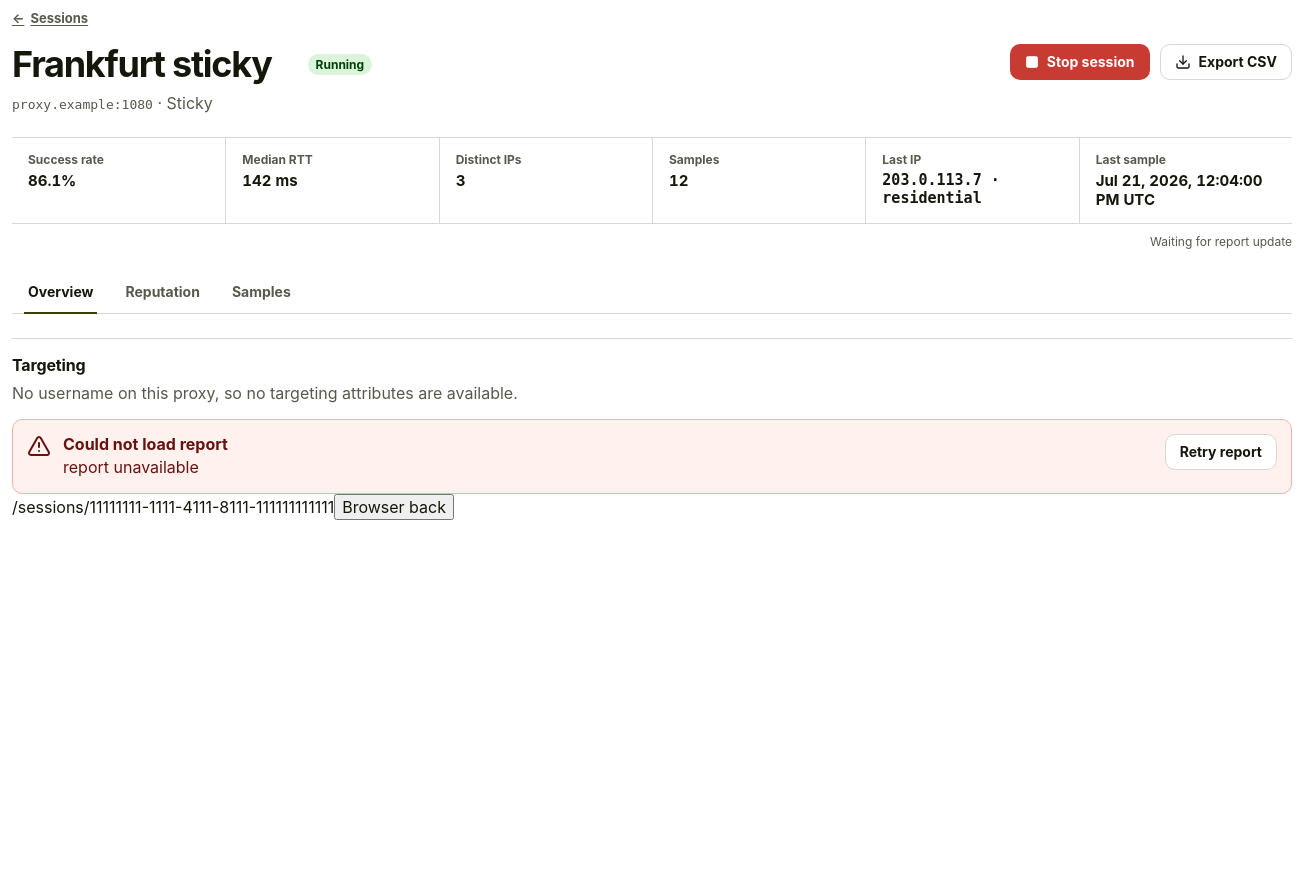
Test: SessionPage › shows a local report error and retries without hiding the session identity
This screenshot has width=1304, height=873.
Expected: the heading "Frankfurt sticky" is shown, [12,44,296,85]
Expected: the message shows "report unavailable", [63,457,199,477]
What coordinates should you click on to do the following:
click the button "Retry report"
I would click on:
 (1221, 452)
Its box is [1165,434,1277,470].
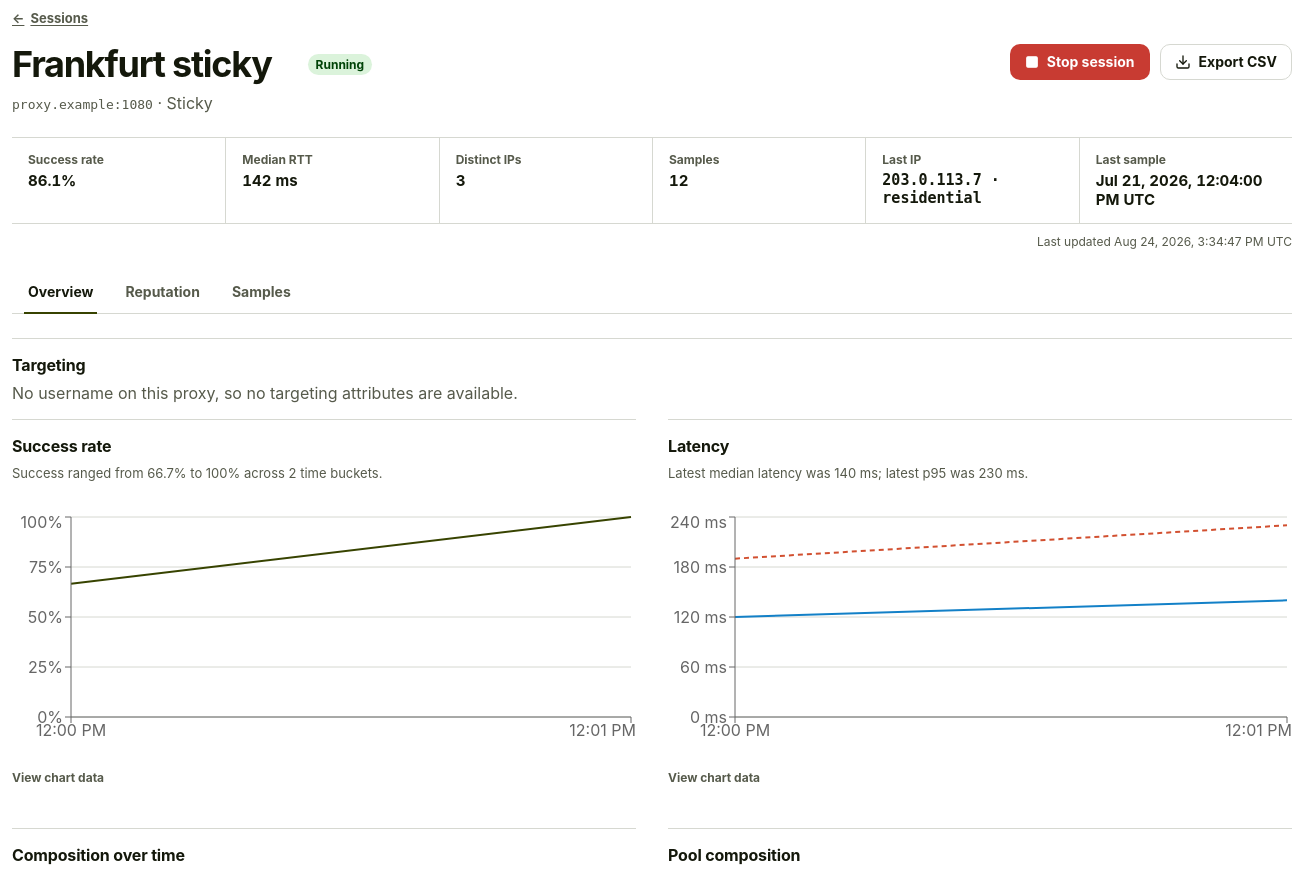
Now the heading "Success rate" is shown, box [12,436,111,456]
